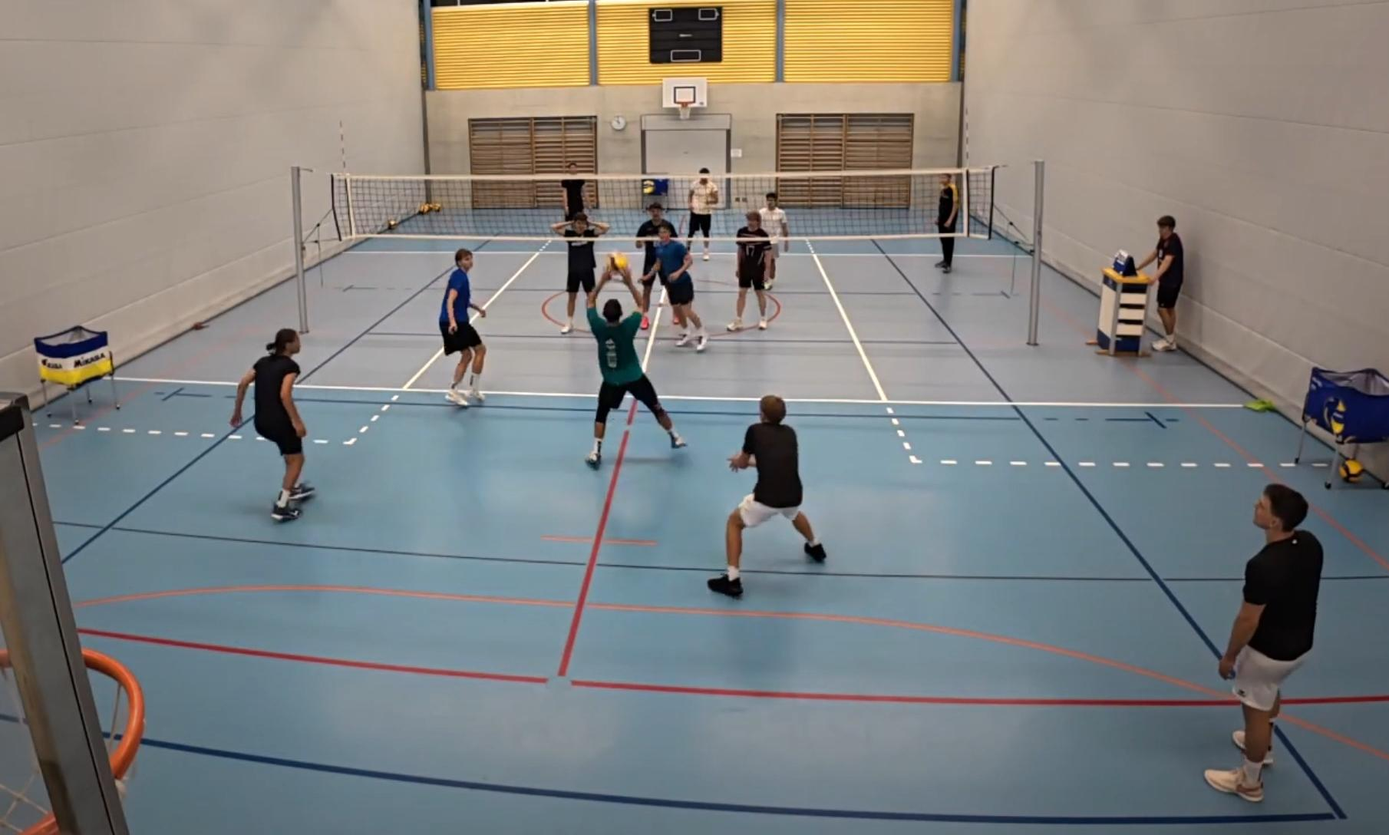ricezione: (576, 267, 690, 470)
